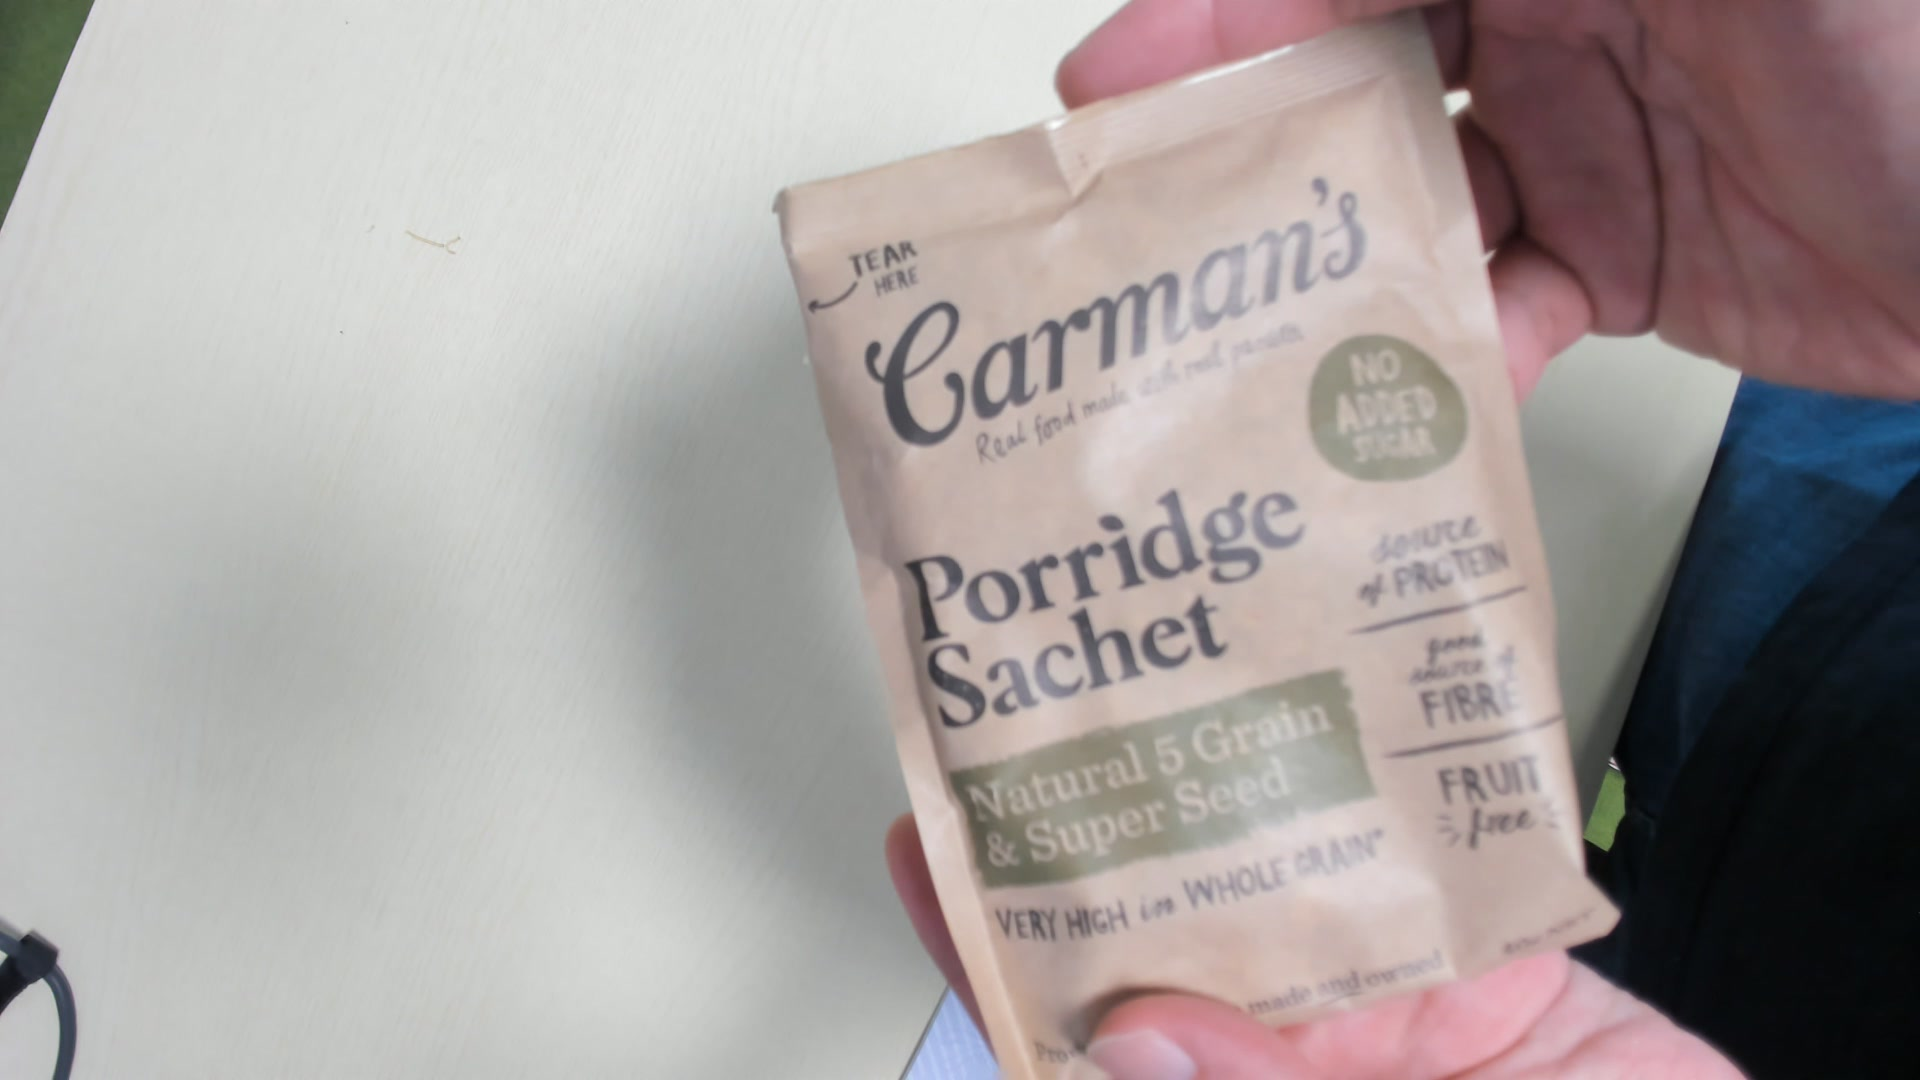InstantMeals_0-99g_NonHalal_NonHealthy: (781, 12, 1621, 1080)
